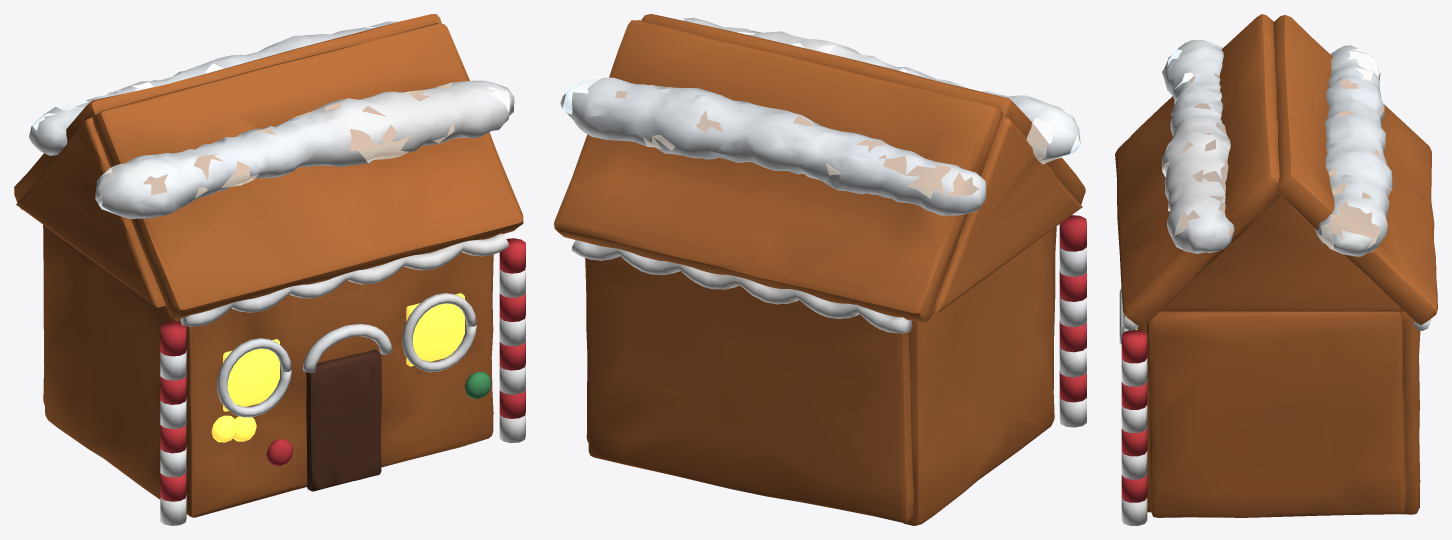
File: frost_gingerbread_house.glb
The picture shows the model from 3 angles, left to right: view 1: azimuth 30°, elevation 25°; view 2: azimuth 150°, elevation 25°; view 3: azimuth 270°, elevation 25°; orthographic projection. The views are drawn at different scales.
Parts seen in each view (by area): view 1: frost_gingerbread_house; view 2: frost_gingerbread_house; view 3: frost_gingerbread_house.
Boxes of the visible parts, x1,y1,x2,y2 form: frost_gingerbread_house: (14, 14, 525, 525); frost_gingerbread_house: (554, 14, 1086, 525); frost_gingerbread_house: (1115, 14, 1437, 525).
Size of the model in its own units: 16.15 by 13.76 by 11.35.
